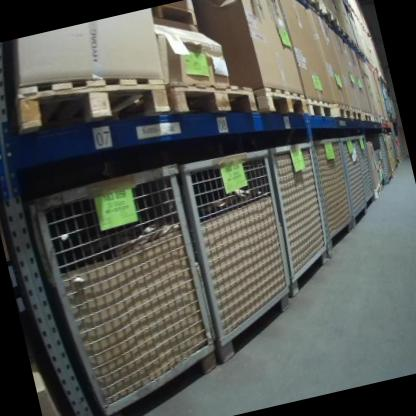pallet: (4, 48, 173, 156), (163, 57, 259, 135), (252, 71, 311, 132), (304, 90, 335, 130), (331, 99, 355, 129), (351, 105, 366, 126)
stillage: (22, 161, 233, 416), (176, 141, 315, 364), (256, 134, 345, 300), (301, 132, 366, 261), (330, 132, 374, 232), (349, 131, 384, 217), (366, 129, 398, 189)
